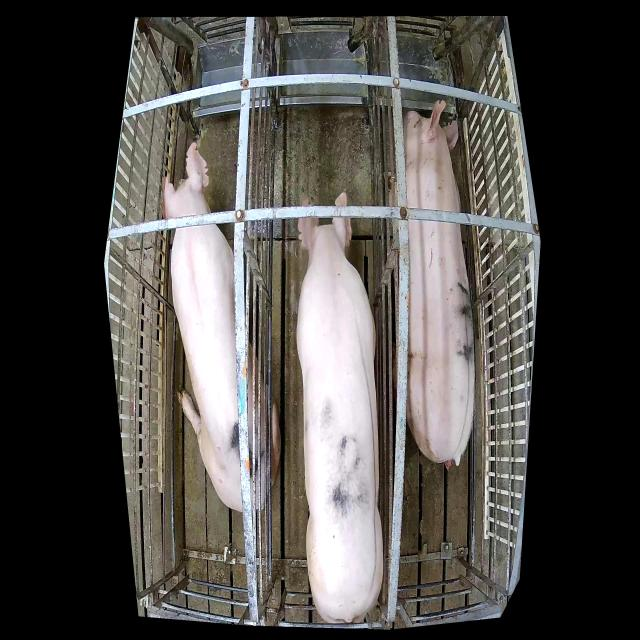pig: (160, 142, 279, 512), (297, 192, 383, 622), (402, 100, 475, 468)
